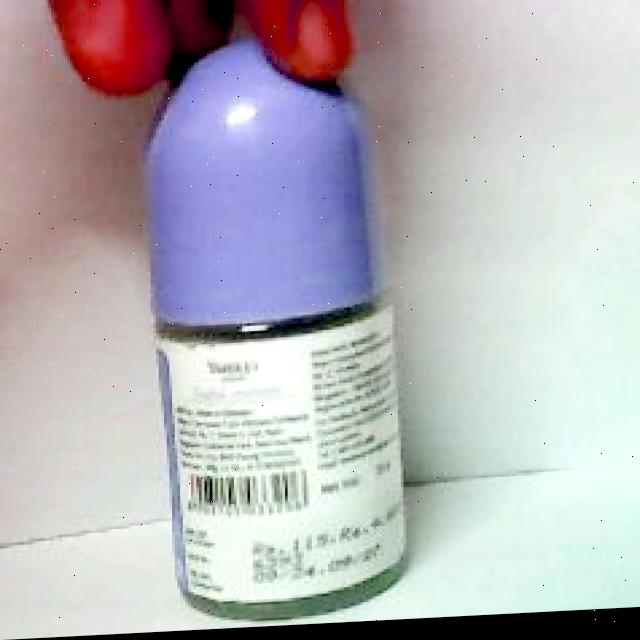yardley_rollon: (148, 41, 406, 627)
